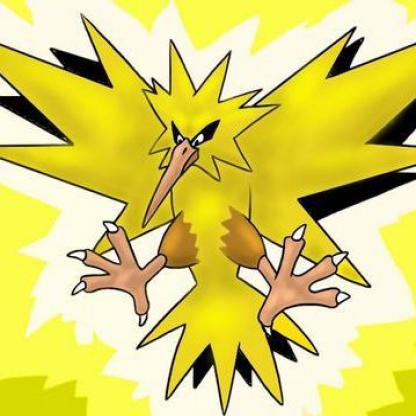Zapdos: (1, 8, 416, 416)
